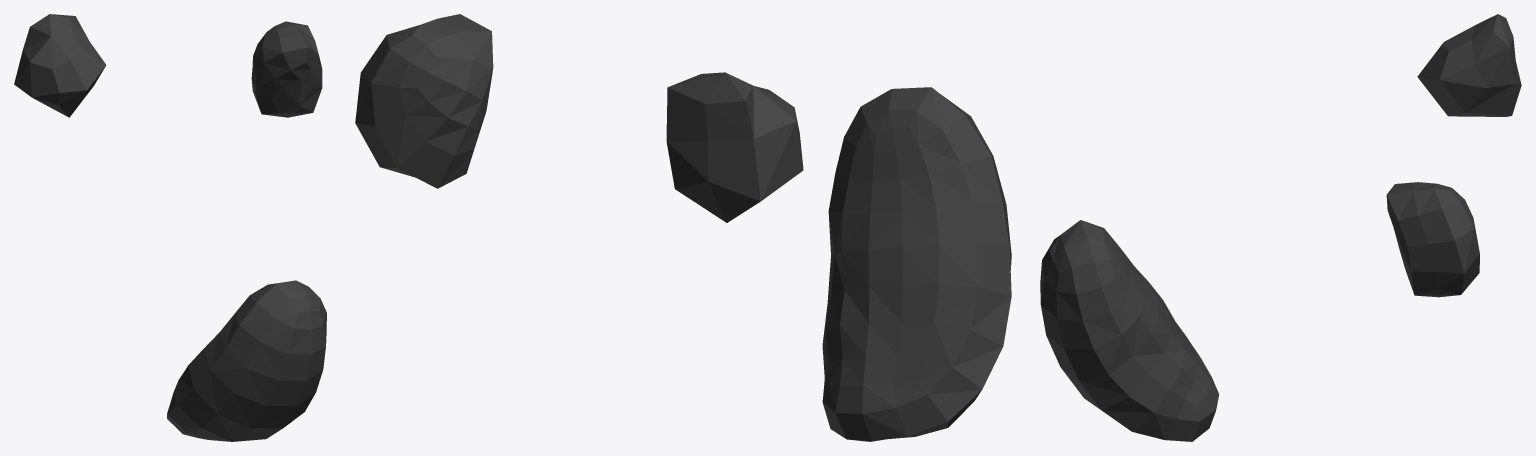
Rendered from Patella_R.glb.
3 renders of one model, left to right at view 1: azimuth 30°, elevation 25°; view 2: azimuth 150°, elevation 25°; view 3: azimuth 270°, elevation 25°, orthographic. The views are drawn at different scales.
Parts seen in each view (by area): view 1: Patella_R; view 2: Patella_R; view 3: Patella_R.
Boxes of the visible parts, x1=… form: Patella_R: x1=14, y1=14, x2=326, y2=441; Patella_R: x1=355, y1=14, x2=1011, y2=441; Patella_R: x1=1040, y1=14, x2=1521, y2=441.
Bounding box in the file's own units: 1.71 × 1.98 × 2.18.
1 material, 1 textured.
